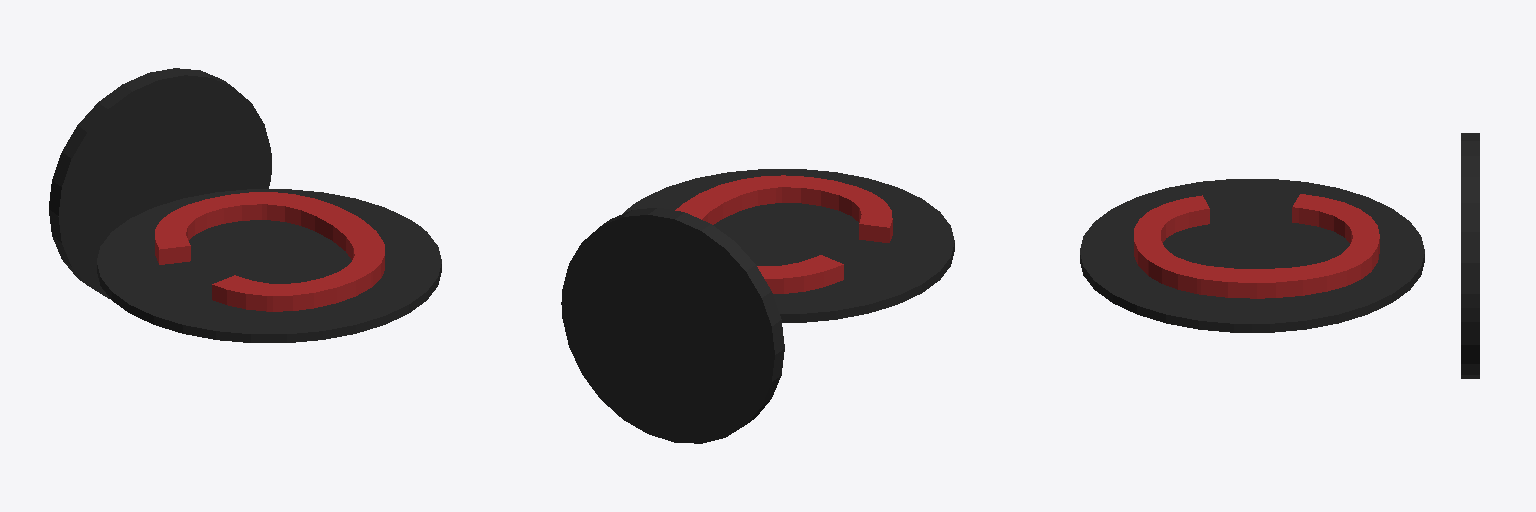
3 renders of one model, left to right at view 1: azimuth 30°, elevation 25°; view 2: azimuth 150°, elevation 25°; view 3: azimuth 270°, elevation 25°, orthographic.
Visible parts, largest first — view 1: ART_GS[number redacted]_c_A; view 2: ART_GS[number redacted]_c_A; view 3: ART_GS[number redacted]_c_A.
Boxes of the visible parts, <box> form: ART_GS[number redacted]_c_A: <box>49,68,441,342</box>; ART_GS[number redacted]_c_A: <box>561,169,954,443</box>; ART_GS[number redacted]_c_A: <box>1080,133,1479,378</box>.
Bounding box in the file's own units: 0.349 × 0.2495 × 0.4059.